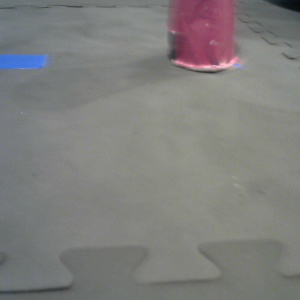Right: (167, 1, 239, 71)
